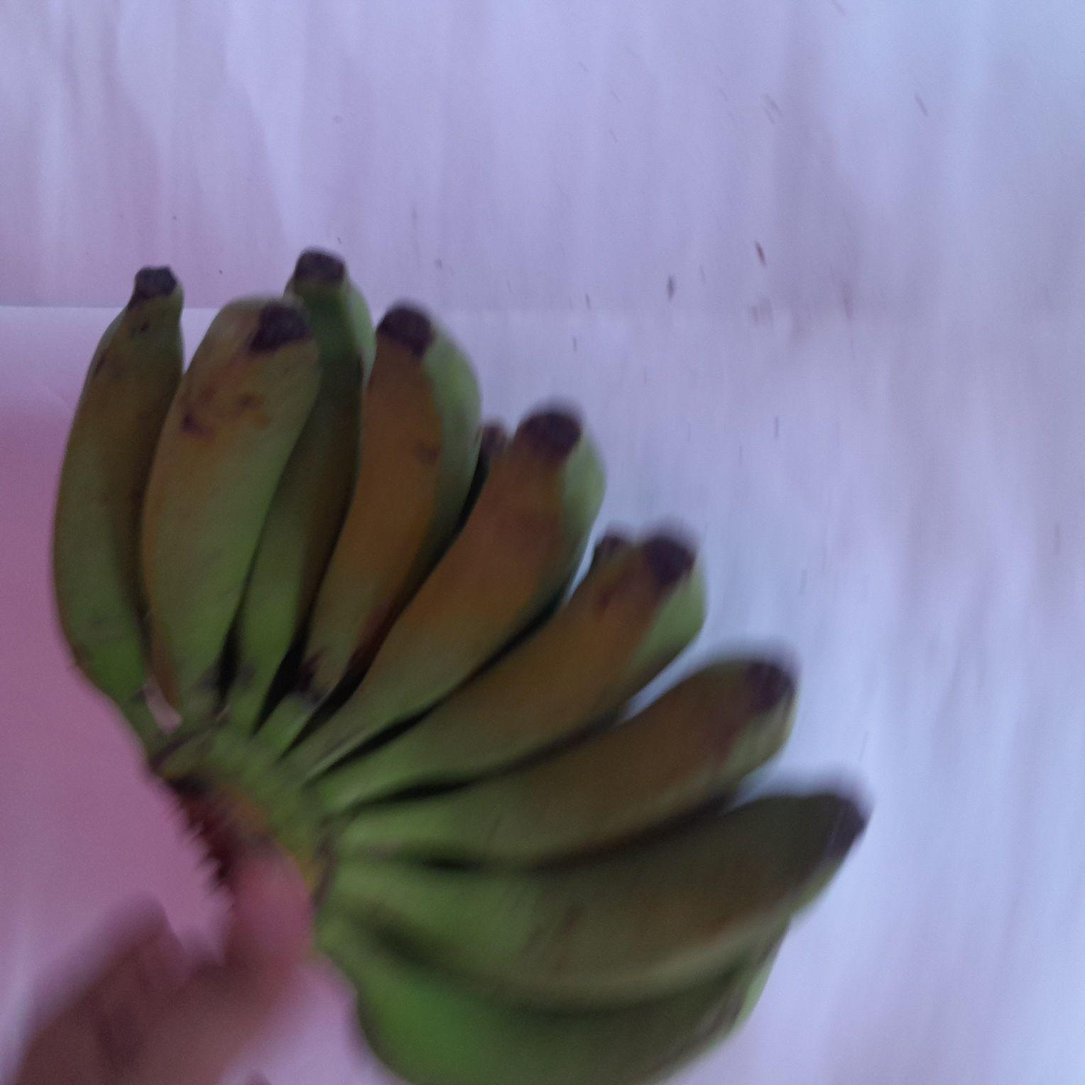Banana Unripe: (324, 795, 865, 1009), (288, 411, 595, 780), (337, 661, 795, 867), (320, 555, 676, 810), (318, 913, 778, 1085), (140, 299, 320, 723), (299, 305, 481, 709), (225, 250, 373, 730), (53, 267, 182, 705)
